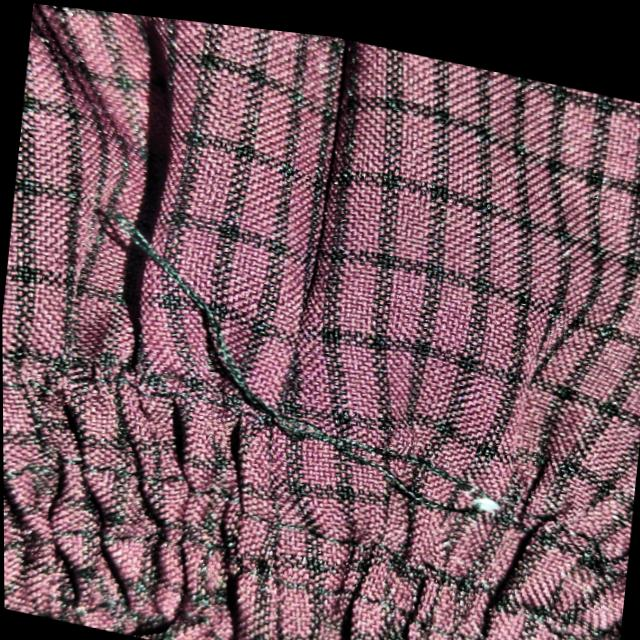Stitch: (47, 186, 525, 555)
